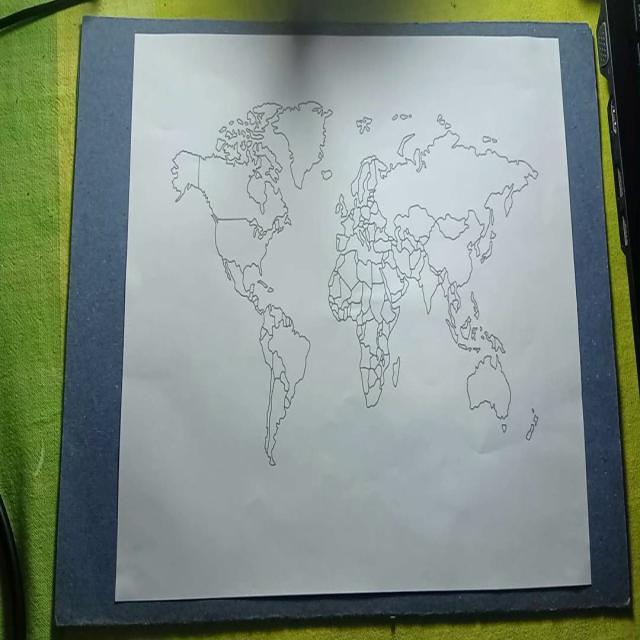AUS: (469, 357, 514, 423)
BRAZIL: (272, 321, 312, 401)
CANADA: (201, 155, 292, 219)
CHINA: (425, 219, 485, 291)
GREENLAND: (274, 99, 332, 194)
INDIA: (420, 254, 444, 315)
RUSSIA: (376, 133, 538, 211)
USA: (216, 217, 285, 266)
